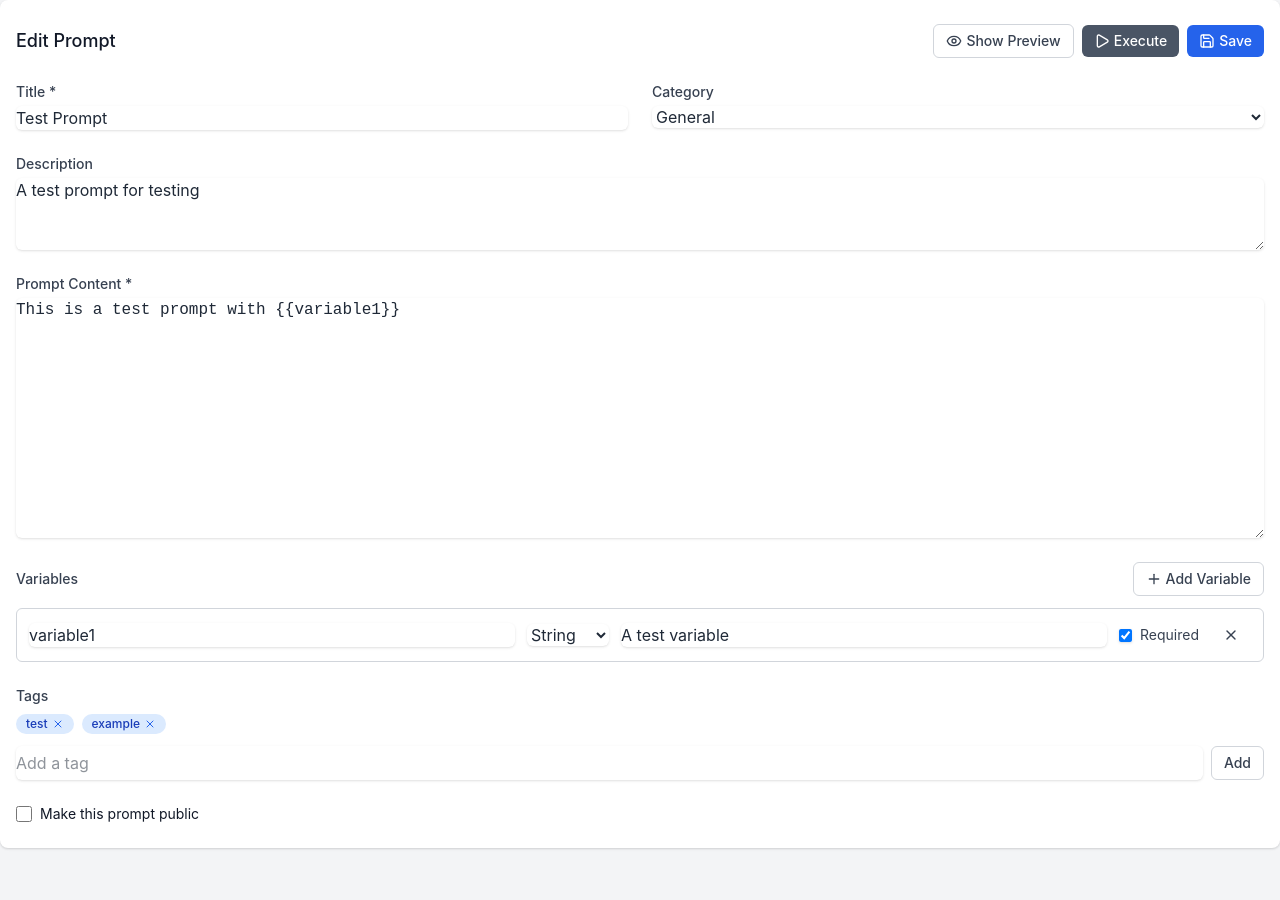
Test case: PromptEditor › toggles preview mode
Click the button "Show Preview". click: (1004, 41)
box: [933,24,1074,58]
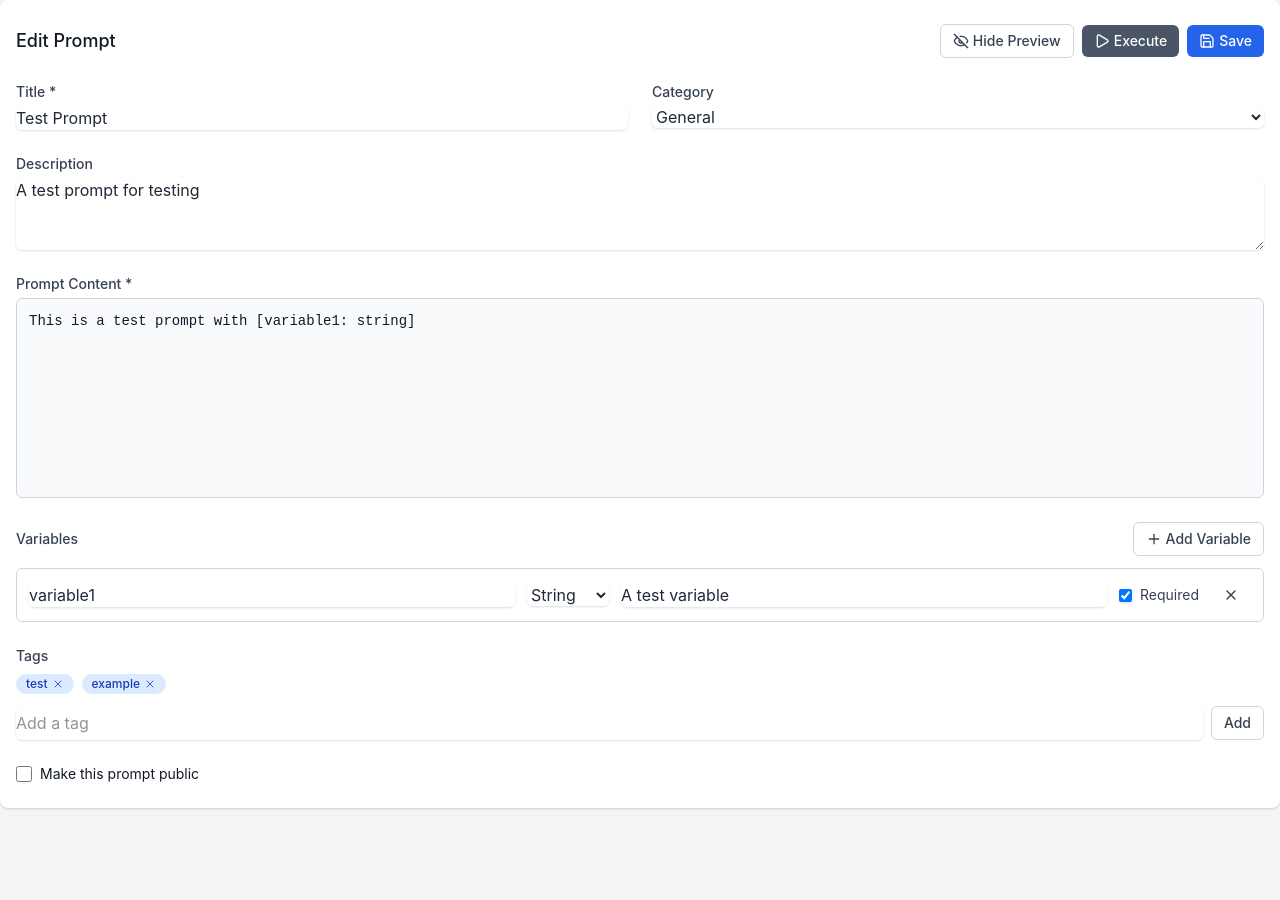
Expected: the button "Hide Preview" is shown, [940,24,1074,58]
Expected: the text "This is a test prompt with [variable1: string]" is shown, [29,313,416,329]
